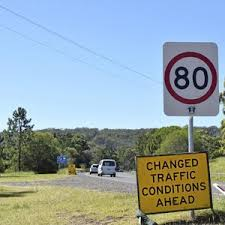Speed_limit_80km: (164, 52, 218, 106)
